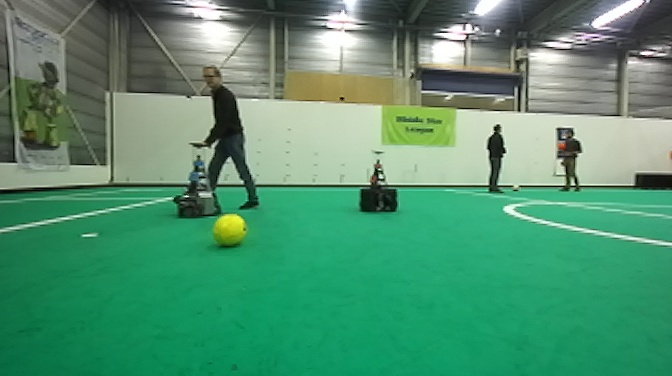ball: (211, 212, 247, 250), (510, 182, 521, 192), (555, 141, 565, 152)
human: (197, 65, 260, 209), (482, 123, 507, 193), (557, 128, 583, 191)
robot: (171, 142, 219, 219), (358, 150, 399, 214)
